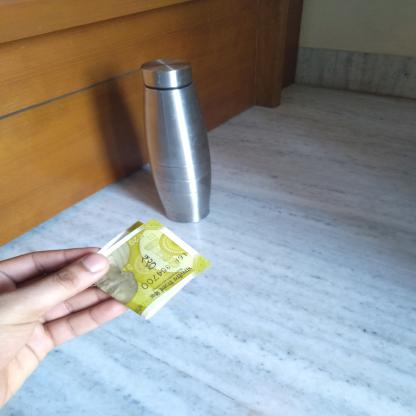New20Front: (92, 224, 196, 308)
